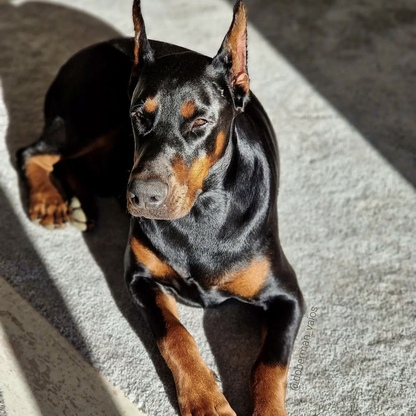doberman: (18, 11, 305, 414)
